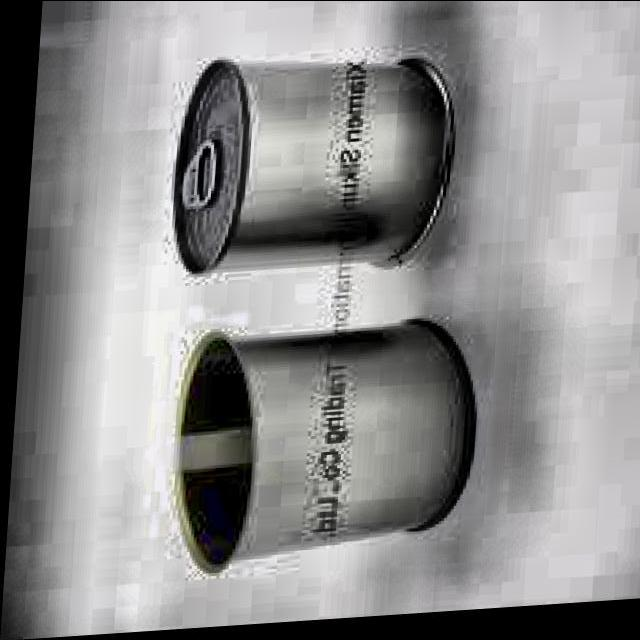litter: (152, 316, 484, 583), (151, 37, 467, 297)
